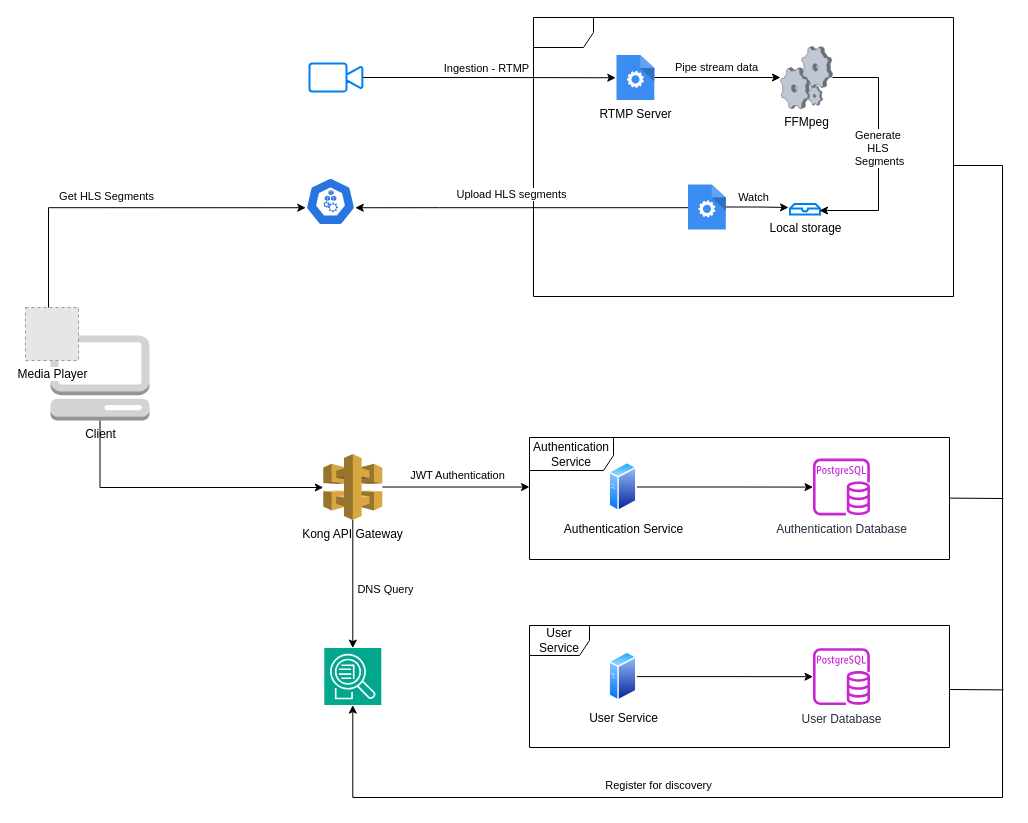
Some shapes in this 1028 by 823 pixel diagram are drawn without their labels. Grey dashed boxes stand in for pictures. Each missing label, with the box of its shape:
File Watcher: (688, 184, 725, 229)
MinIO Storage: (304, 176, 356, 226)
OBS: (308, 62, 363, 92)
Service Discovery (consul): (323, 647, 381, 705)
Transcode Service: (532, 16, 954, 296)
